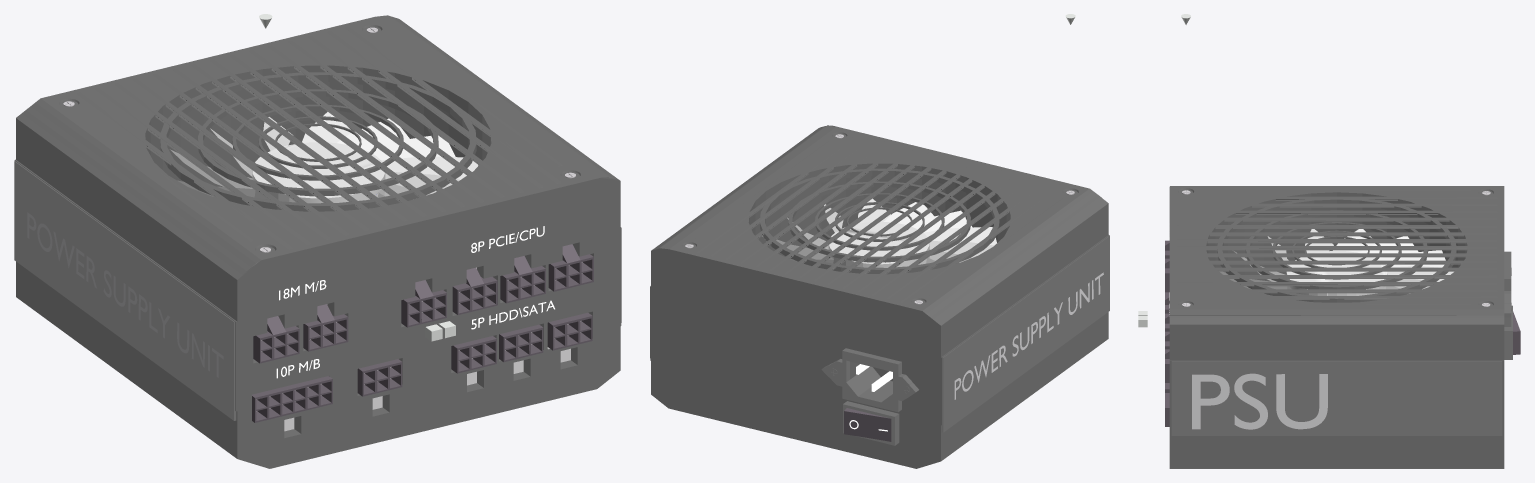
Rendered from psu-modular.glb.
The picture shows the model from 3 angles, left to right: view 1: azimuth 30°, elevation 25°; view 2: azimuth 150°, elevation 25°; view 3: azimuth 270°, elevation 25°; orthographic projection. The views are drawn at different scales.
Visible parts, largest first — view 1: Object_6, Object_12, Object_16, Object_4, Object_38; view 2: Object_6, Object_12, Object_4, Object_16; view 3: Object_6, Object_12, Object_16, Object_4.
Part boxes in pixels (bbox=[...]): Object_6: bbox=[14, 15, 621, 468]; Object_12: bbox=[14, 161, 621, 420]; Object_16: bbox=[27, 14, 593, 431]; Object_4: bbox=[170, 112, 478, 203]; Object_38: bbox=[276, 226, 554, 378]; Object_6: bbox=[650, 125, 1109, 468]; Object_12: bbox=[650, 236, 1109, 445]; Object_4: bbox=[762, 198, 996, 267]; Object_16: bbox=[685, 14, 1103, 441]; Object_6: bbox=[1169, 186, 1504, 468]; Object_12: bbox=[1171, 251, 1512, 435]; Object_16: bbox=[1138, 14, 1520, 429]; Object_4: bbox=[1219, 229, 1453, 295].
Size of the model in its own units: 20.44 by 21.94 by 22.74.
Materials: 5 (5 with a texture image).
